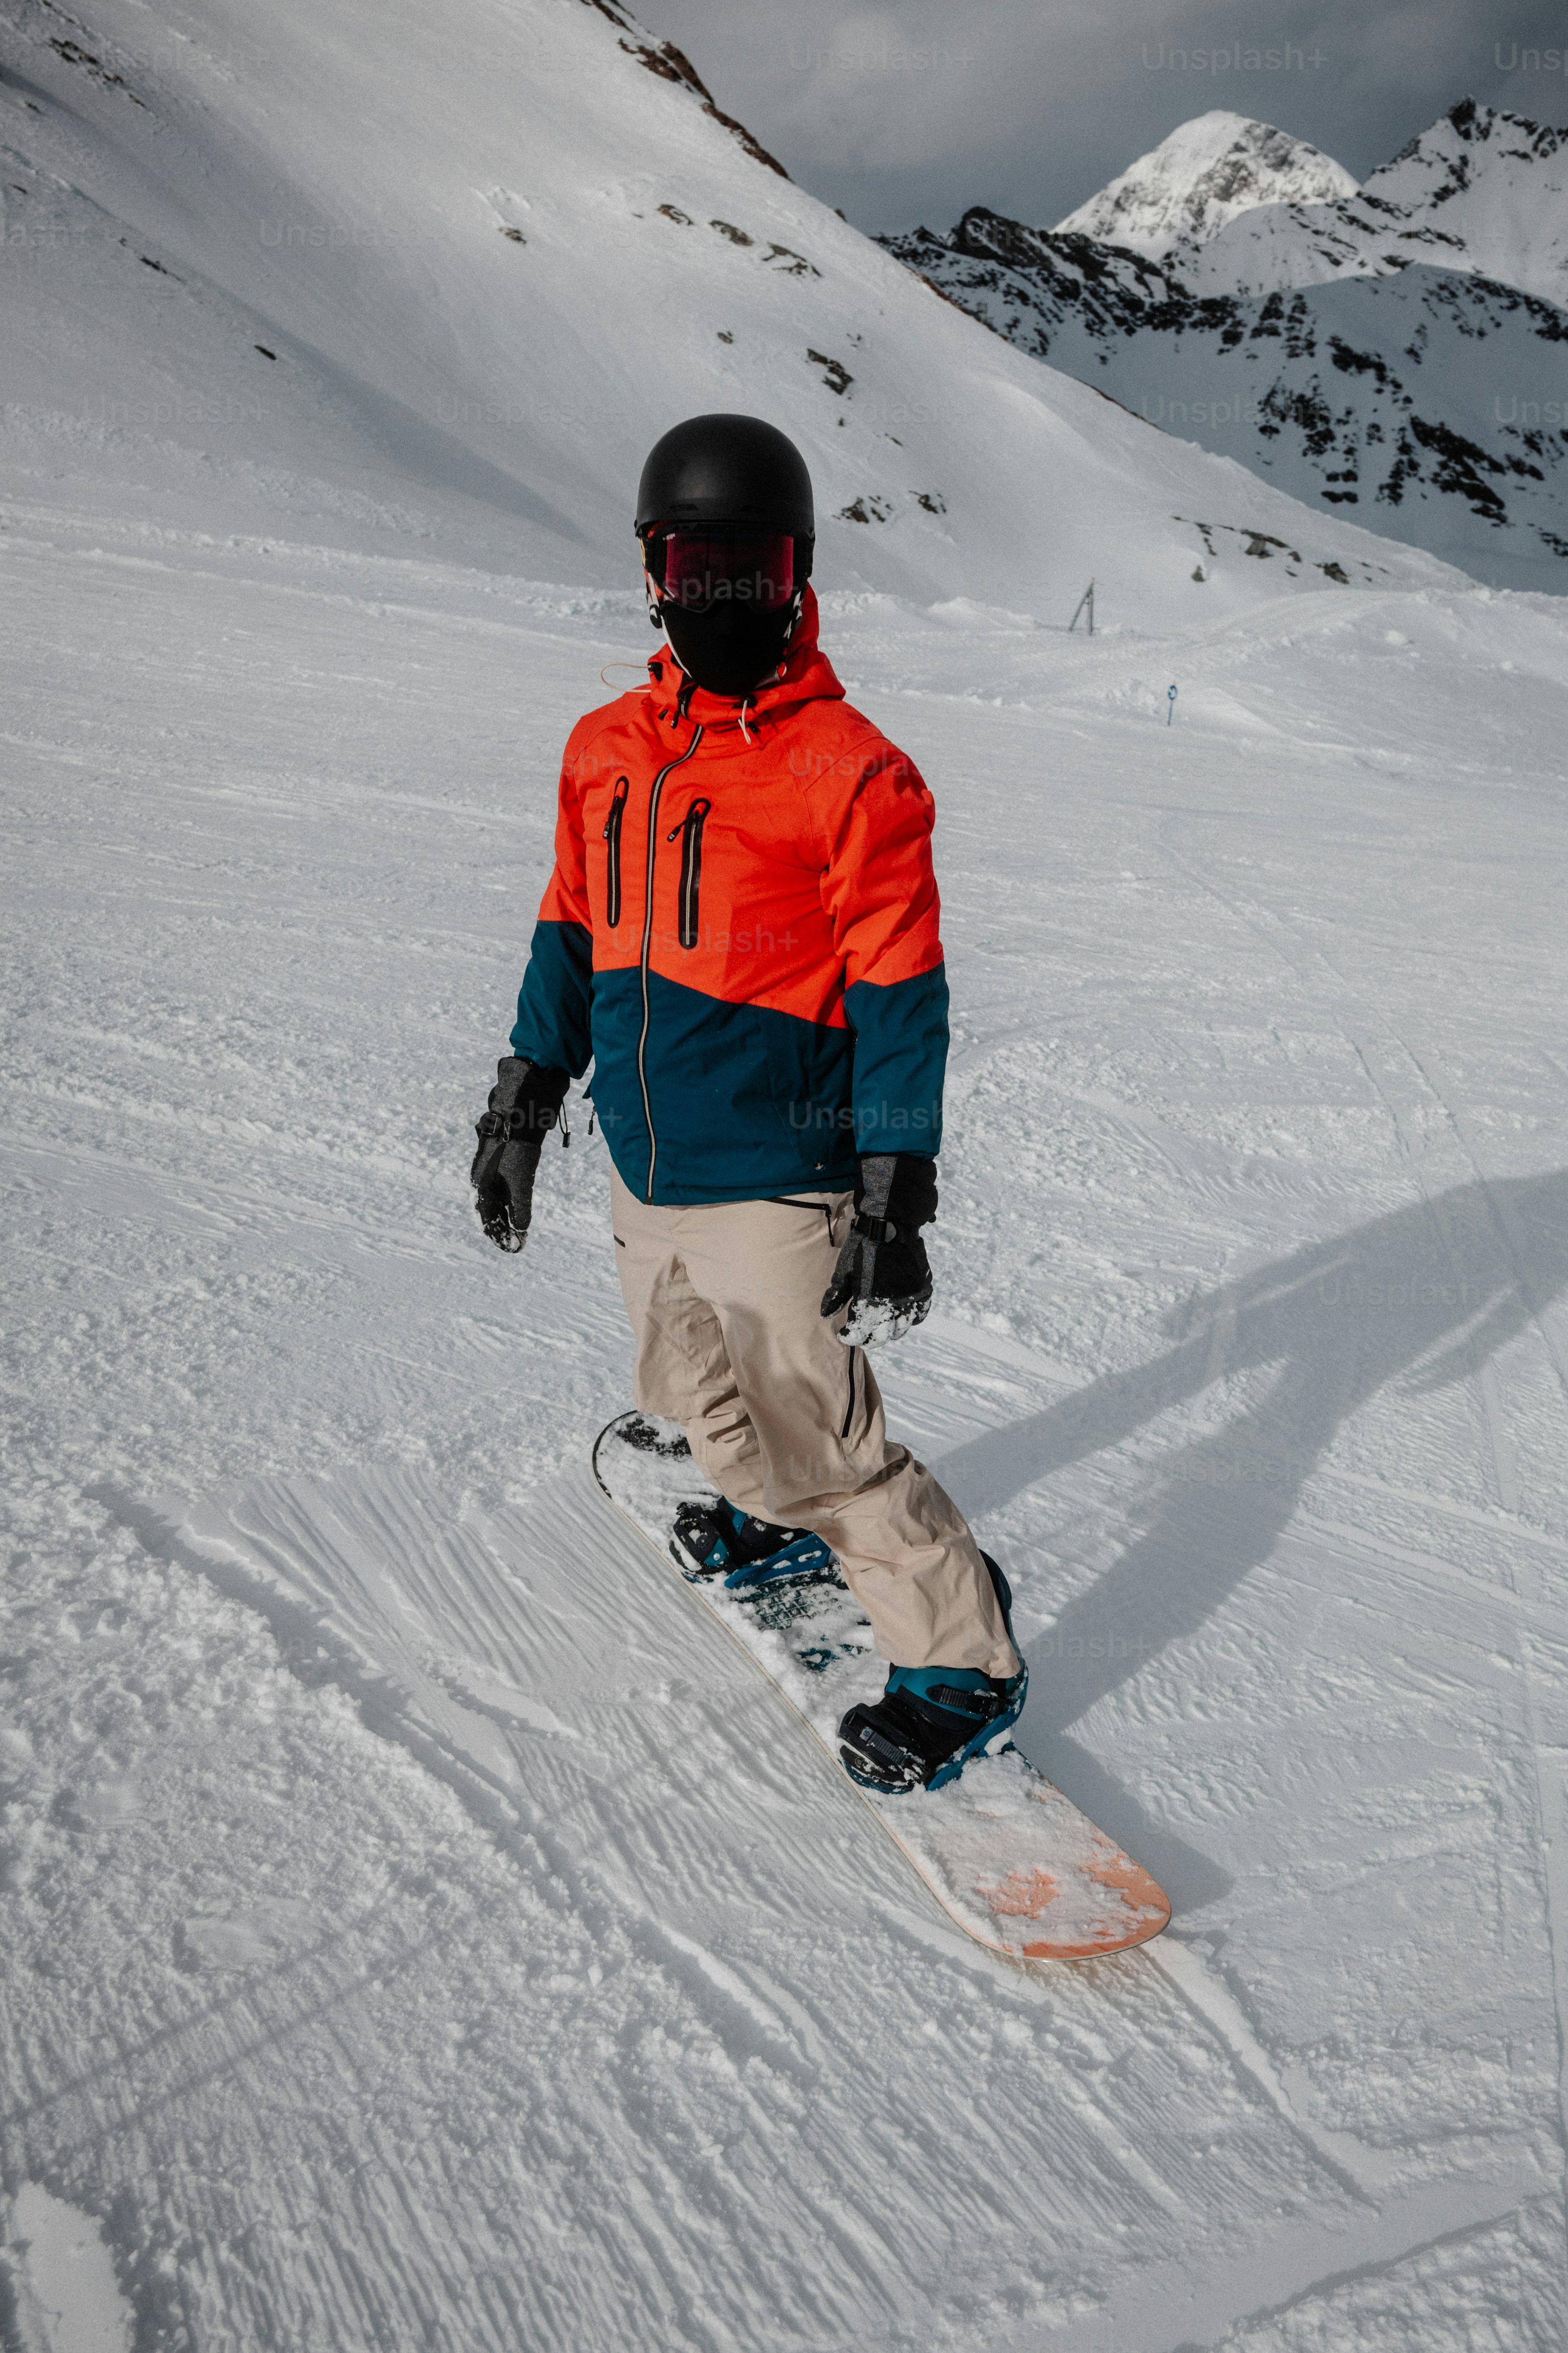snowboarder: (341, 380, 1293, 1986)
